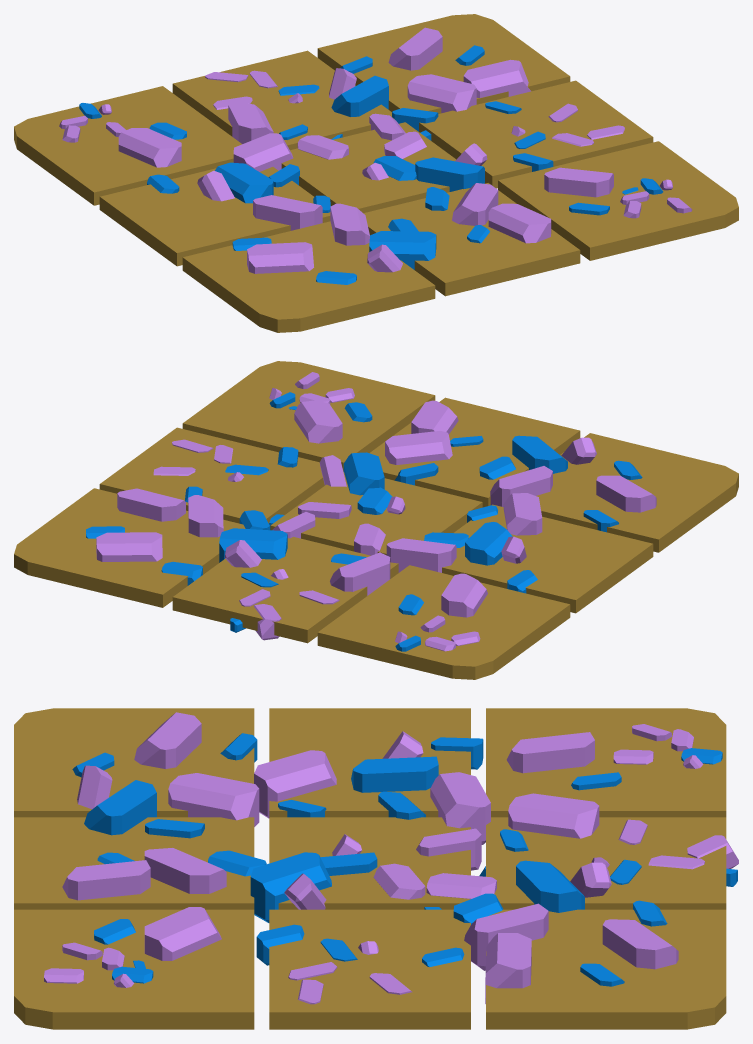
File: ChocolateBarkChopped.fbx
3 renders of one model, top to bottom at view 1: azimuth 30°, elevation 25°; view 2: azimuth 150°, elevation 25°; view 3: azimuth 270°, elevation 25°, orthographic. The views are drawn at different scales.
Parts seen in each view (by area): view 1: Portion.007, Portion.005, Portion.001, Portion.008, Portion.003, Portion.006, Portion.004, Portion.002, Portion.009; view 2: Portion.001, Portion.003, Portion.007, Portion.008, Portion.002, Portion.005, Portion.006, Portion.004, Portion.009; view 3: Portion.003, Portion.005, Portion.004, Portion.007, Portion.008, Portion.001, Portion.006, Portion.002, Portion.009.
Part boxes in pixels (bbox=[...]): Portion.007: bbox=[182, 203, 435, 332]; Portion.005: bbox=[498, 141, 738, 260]; Portion.001: bbox=[14, 86, 241, 205]; Portion.008: bbox=[99, 133, 330, 266]; Portion.003: bbox=[317, 14, 570, 113]; Portion.006: bbox=[363, 183, 580, 296]; Portion.004: bbox=[392, 80, 653, 188]; Portion.002: bbox=[172, 50, 393, 150]; Portion.009: bbox=[281, 113, 487, 213]; Portion.001: bbox=[317, 565, 570, 679]; Portion.003: bbox=[14, 488, 245, 607]; Portion.007: bbox=[490, 433, 738, 552]; Portion.008: bbox=[386, 493, 653, 613]; Portion.002: bbox=[172, 528, 398, 643]; Portion.005: bbox=[182, 361, 435, 471]; Portion.006: bbox=[369, 397, 580, 507]; Portion.004: bbox=[99, 427, 324, 530]; Portion.009: bbox=[269, 452, 482, 555]; Portion.003: bbox=[464, 900, 726, 1029]; Portion.005: bbox=[14, 907, 254, 1029]; Portion.004: bbox=[256, 893, 503, 1029]; Portion.007: bbox=[14, 708, 259, 826]; Portion.008: bbox=[254, 708, 490, 844]; Portion.001: bbox=[486, 708, 726, 817]; Portion.006: bbox=[14, 780, 266, 909]; Portion.002: bbox=[479, 793, 738, 912]; Portion.009: bbox=[250, 817, 496, 922].
Bounding box in the file's own units: 79.06 × 6.69 × 79.75.
